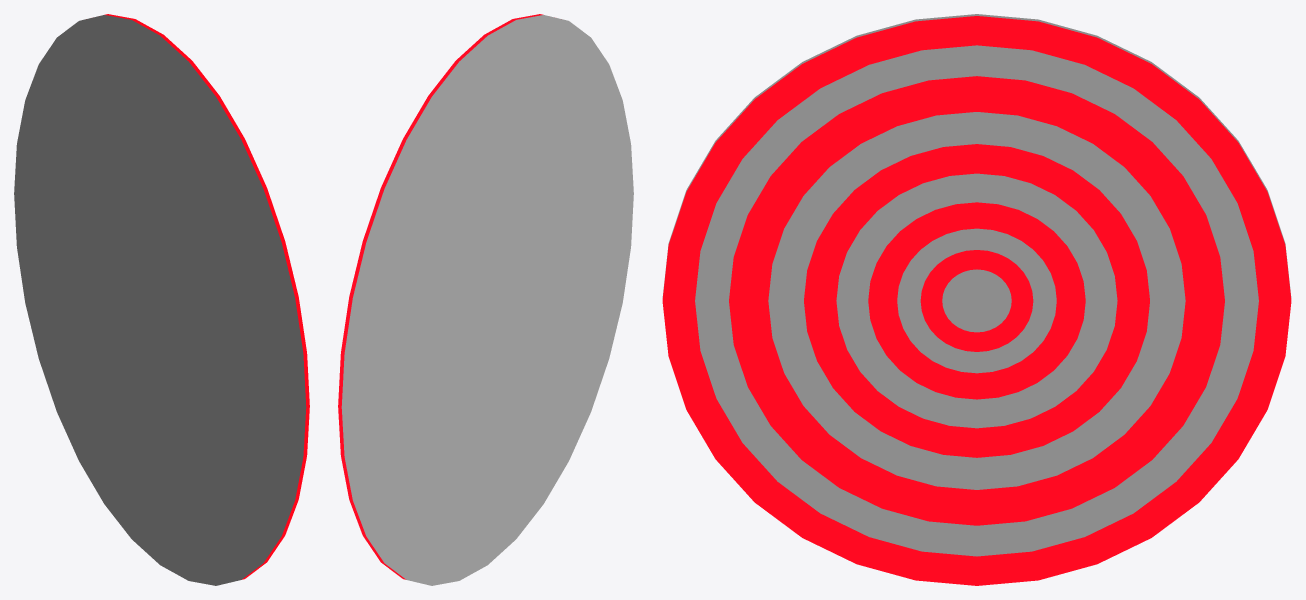
File: Target.fbx
3 renders of one model, left to right at view 1: azimuth 30°, elevation 25°; view 2: azimuth 150°, elevation 25°; view 3: azimuth 270°, elevation 25°, orthographic. The views are drawn at different scales.
Visible parts, largest first — view 1: Circle; view 2: Circle; view 3: Circle.
Boxes of the visible parts, x1=… form: Circle: x1=14, y1=14, x2=309, y2=585; Circle: x1=338, y1=14, x2=633, y2=585; Circle: x1=662, y1=14, x2=1291, y2=585.
Bounding box in the file's own units: 0.7239 × 100 × 100.
